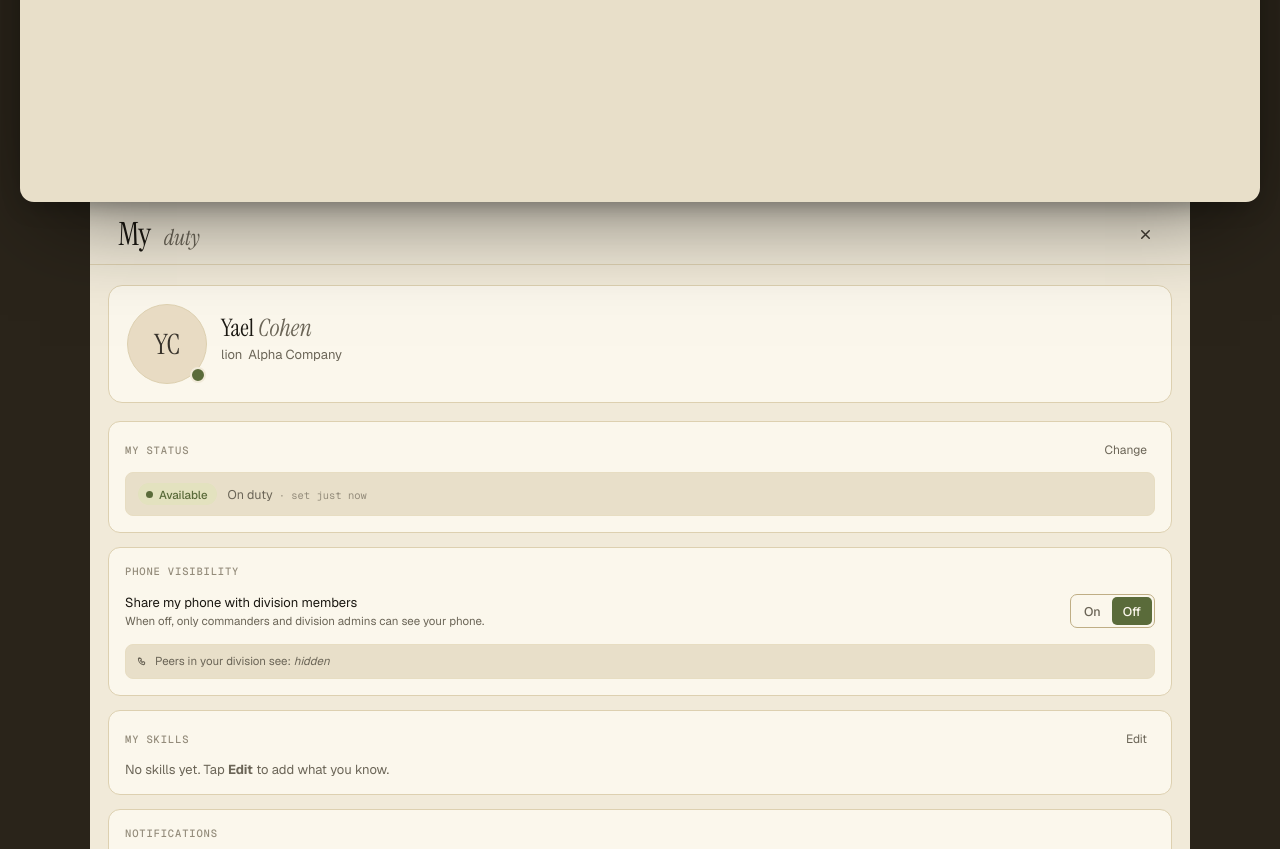
Test: ReservistDashboard › status edit shows preset chips after switching to a non-available status
The width and height of the screenshot is (1280, 849).
(page scrolled)
Click the button "Change".
click(1126, 450)  # box [1096,438,1155,462]
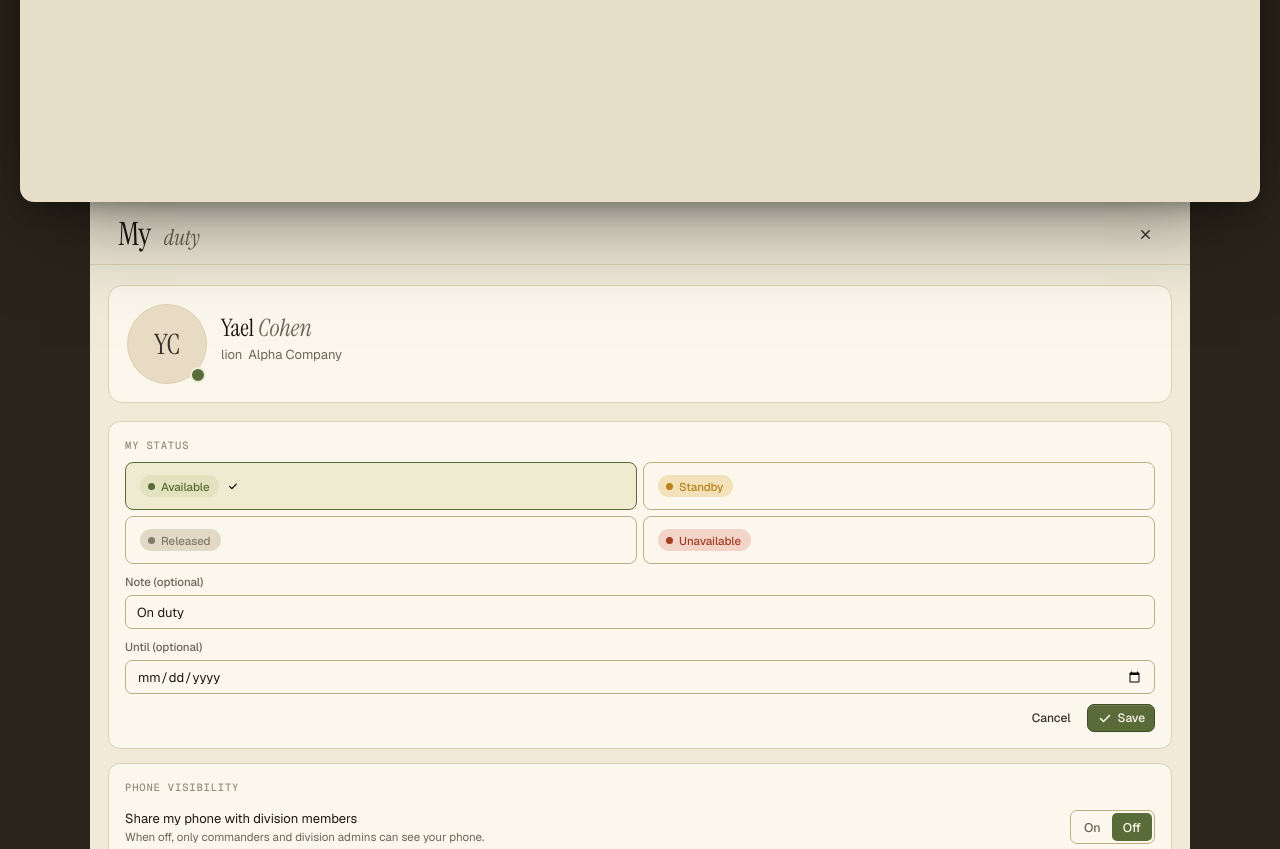
Click the button "Unavailable".
click(704, 540)  # box [643,516,1155,564]
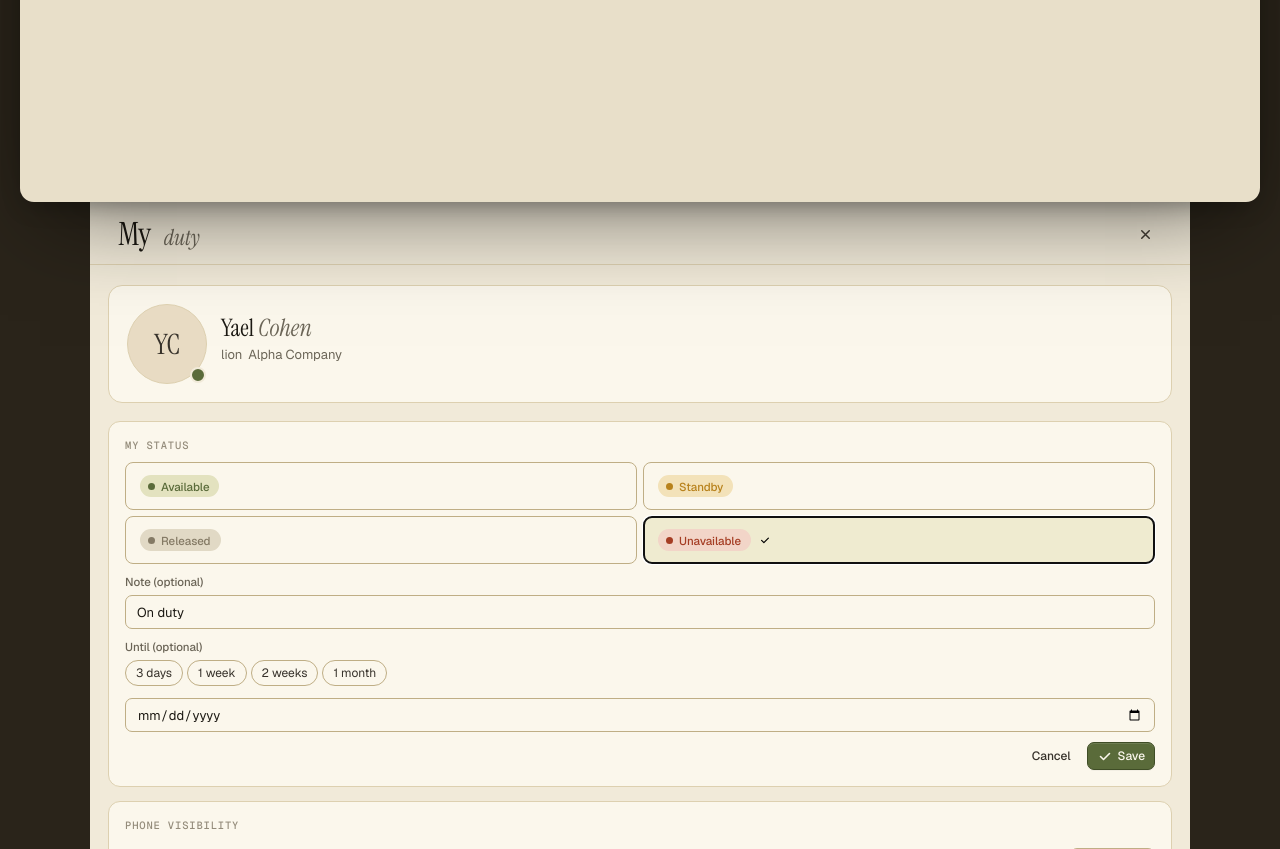
Expected: the button "3 days" is shown, [125,660,183,686]
Expected: the button "1 week" is shown, [187,660,246,686]
Expected: the button "2 weeks" is shown, [250,660,318,686]
